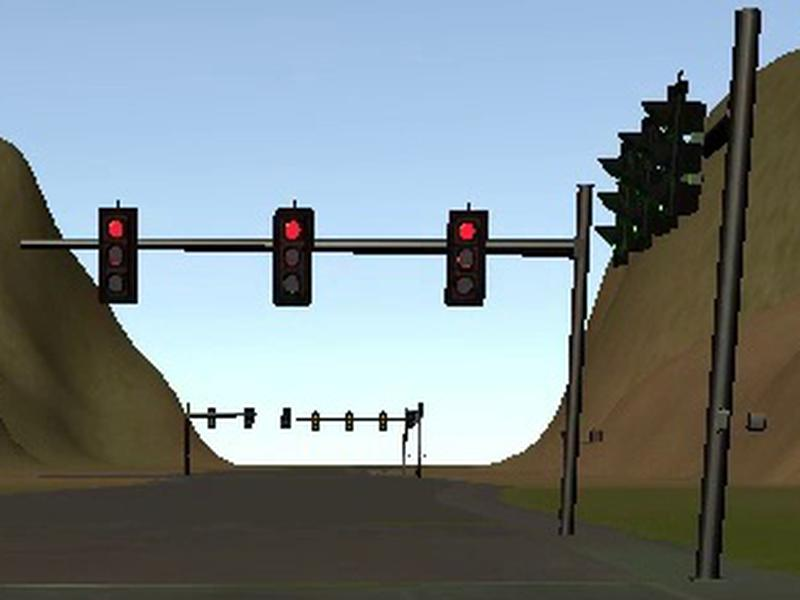Red: (444, 210, 490, 303), (273, 208, 314, 303), (99, 208, 137, 303)
